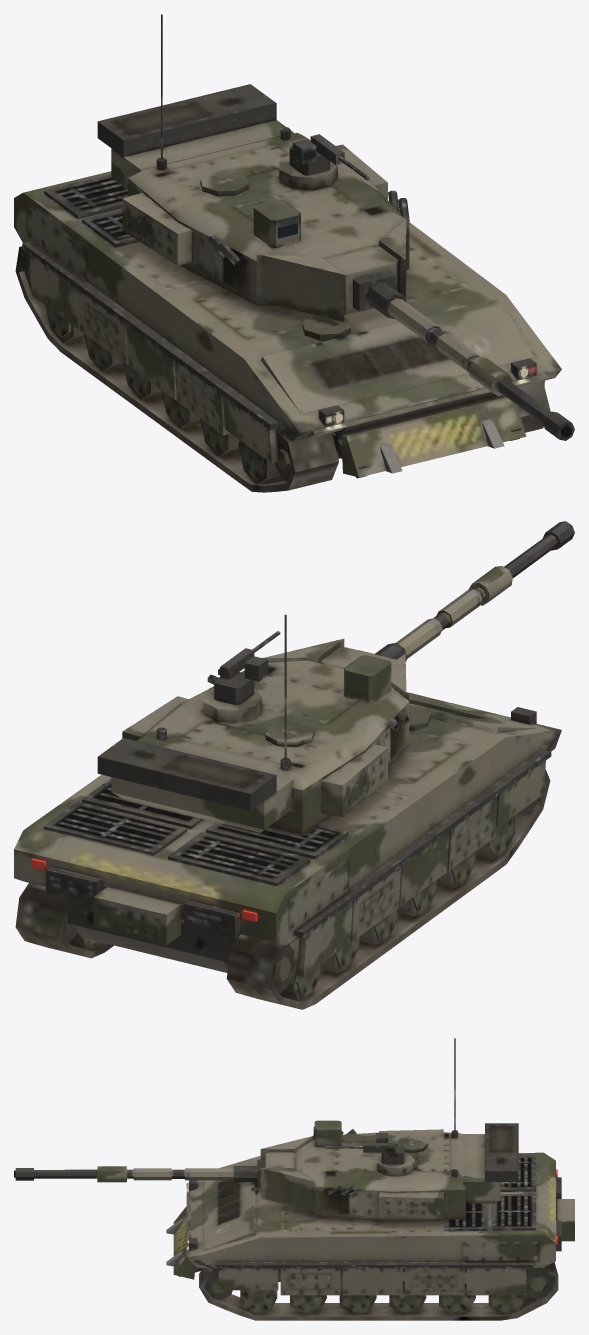
The model's file is hs_tank_nosorog_lod1.glb.
3 views of the same model, one above another, from view 1: azimuth 30°, elevation 25°; view 2: azimuth 150°, elevation 25°; view 3: azimuth 270°, elevation 25° (orthographic). The views are drawn at different scales.
Bounding box in the file's own units: 3.86 × 4.56 × 10.4.
1 material, 1 textured.
